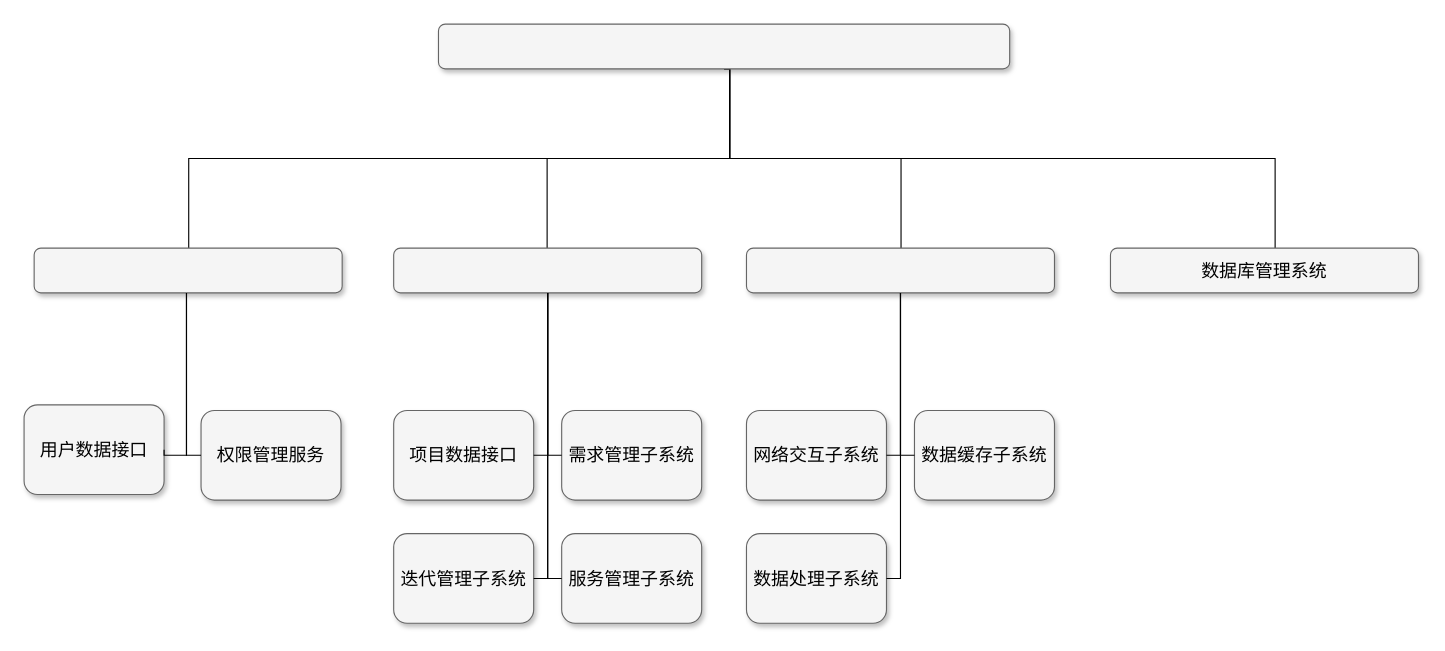
Image size: 1445x651. Some labels were removed from this diagram. The centre of each missing label's shape, as x and y in pixels:
仓库管理系统: the point at 901,271
用户管理系统: the point at 189,271
需求管理系统: the point at 724,47
项目管理系统: the point at 548,271
